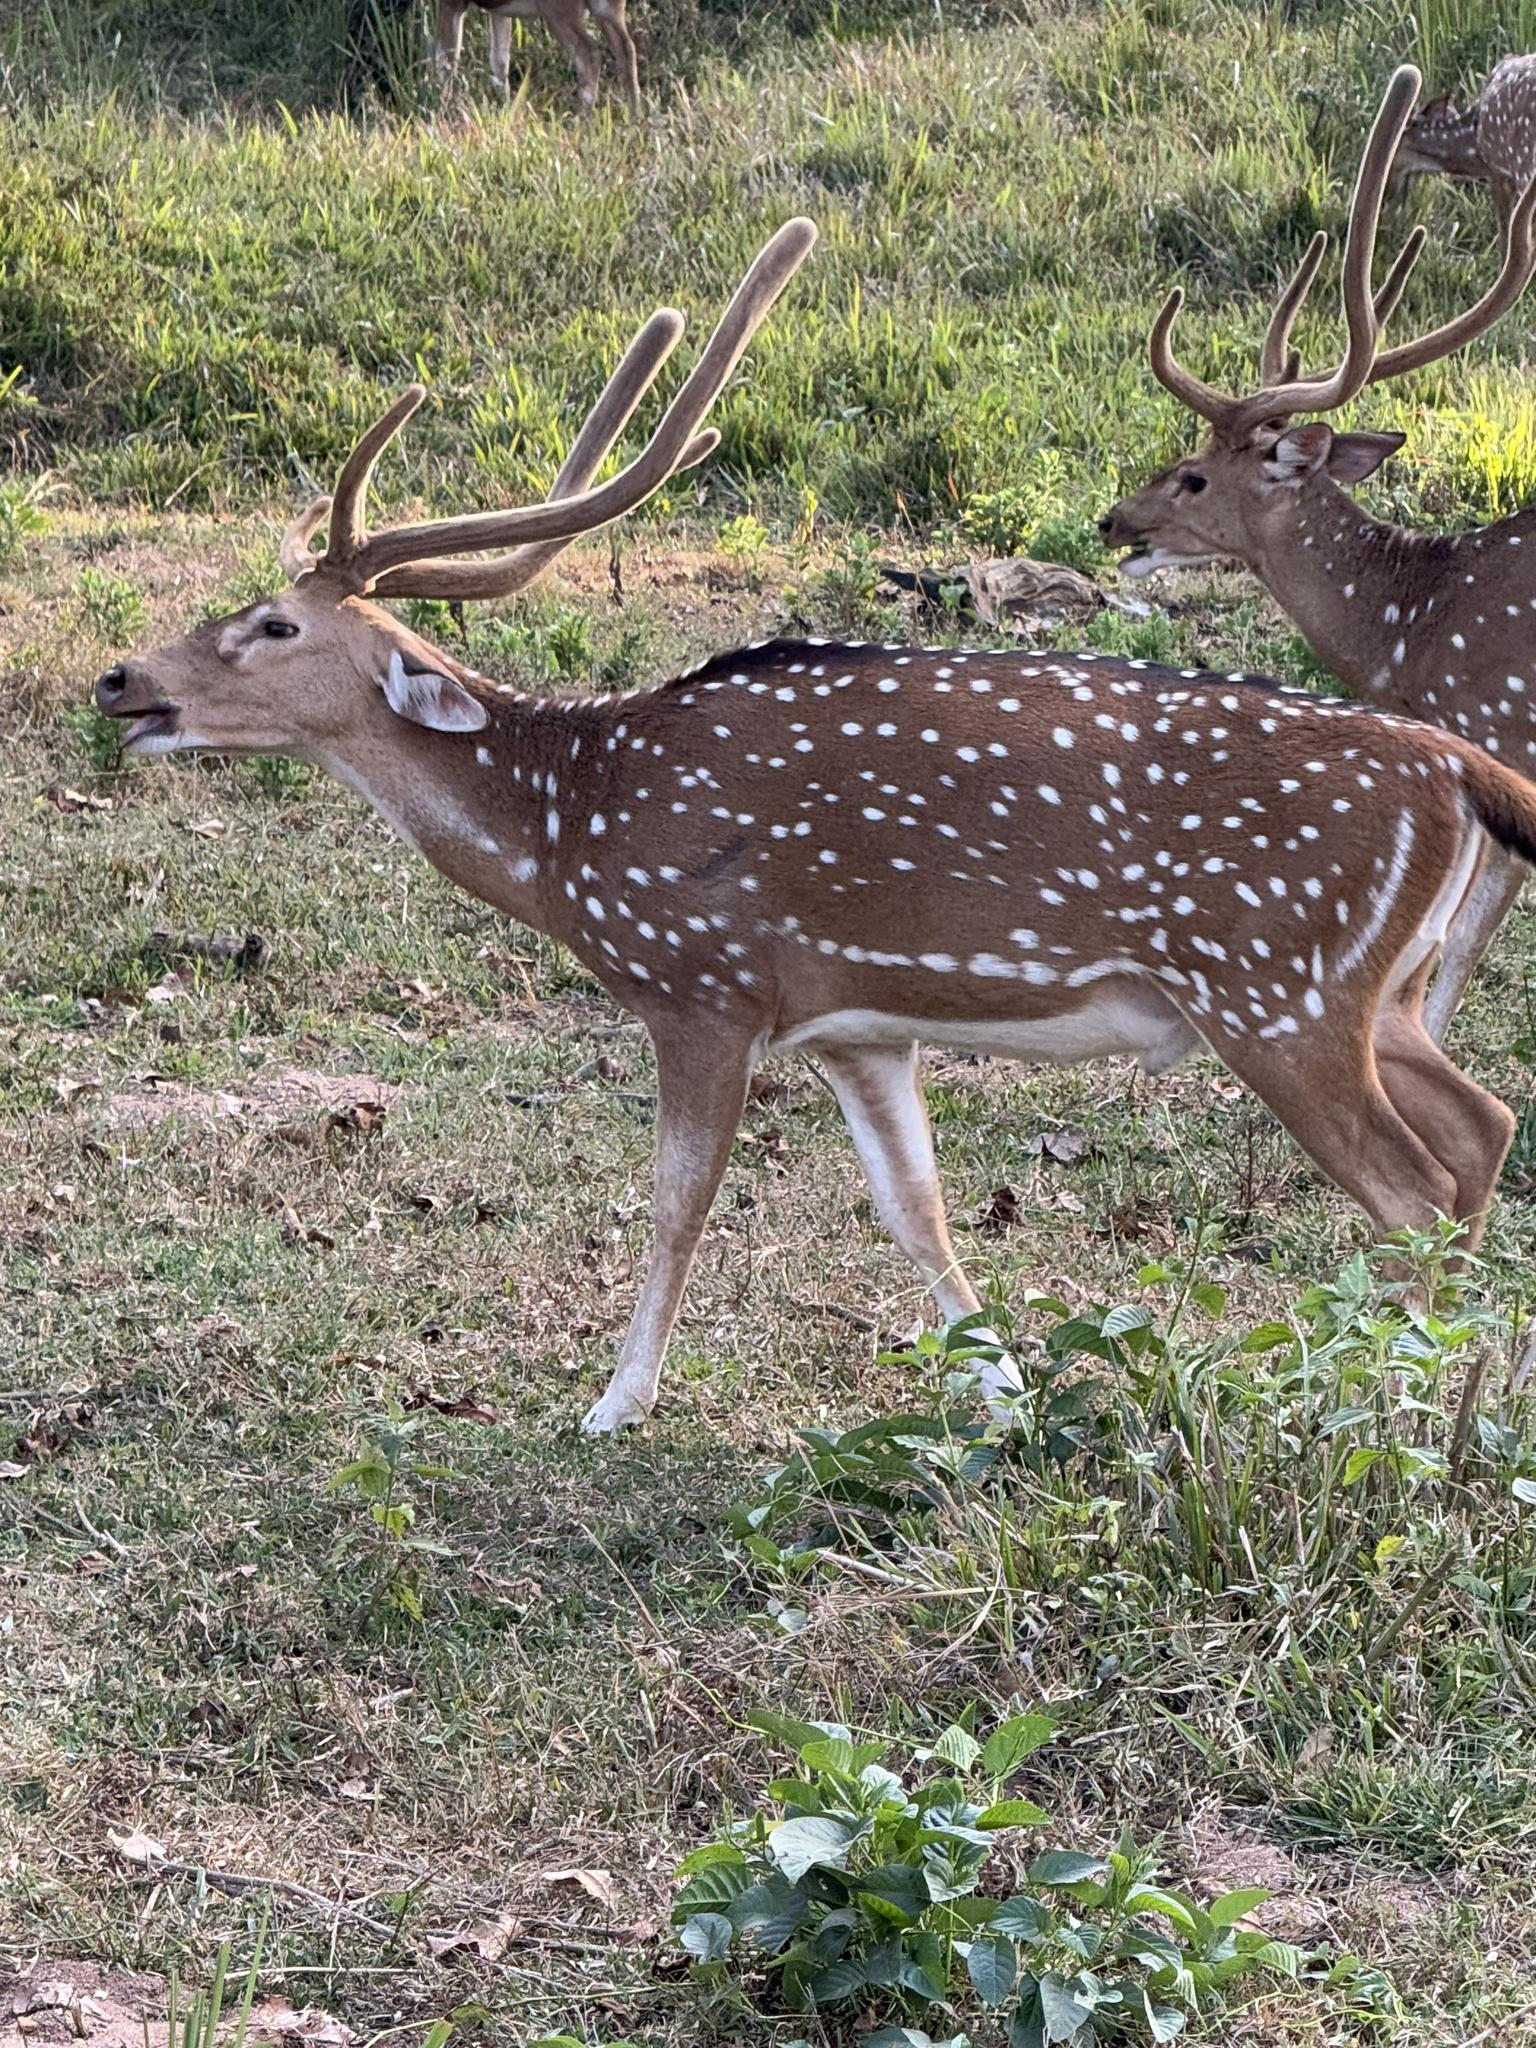Deer: (94, 218, 1534, 1432), (1100, 66, 1534, 780)
